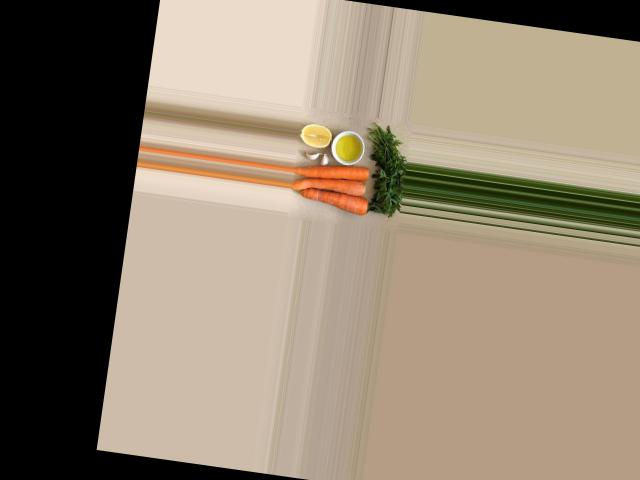carrot: (293, 157, 373, 187)
